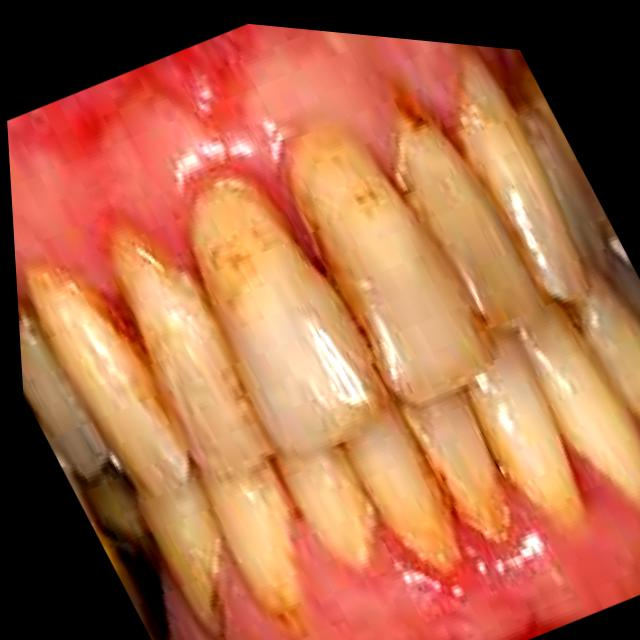tooth-discoloration: (217, 244, 383, 450), (333, 200, 487, 402), (418, 179, 542, 328), (484, 145, 585, 300), (22, 359, 106, 478)
